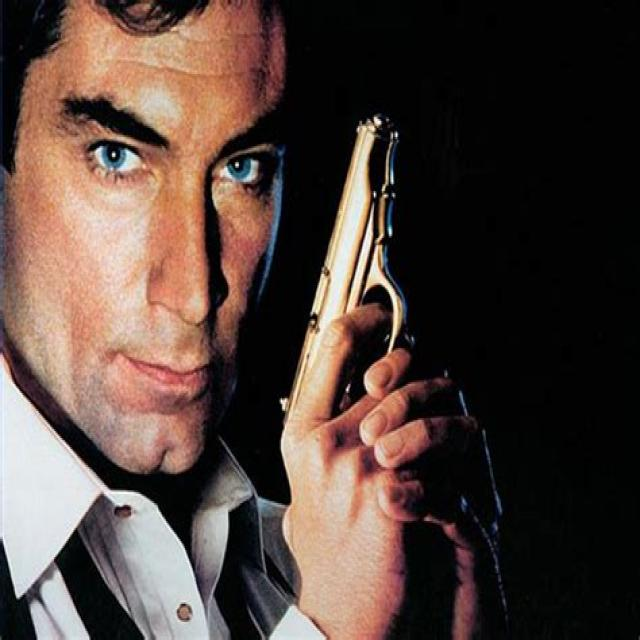weapons: (292, 86, 449, 514)
